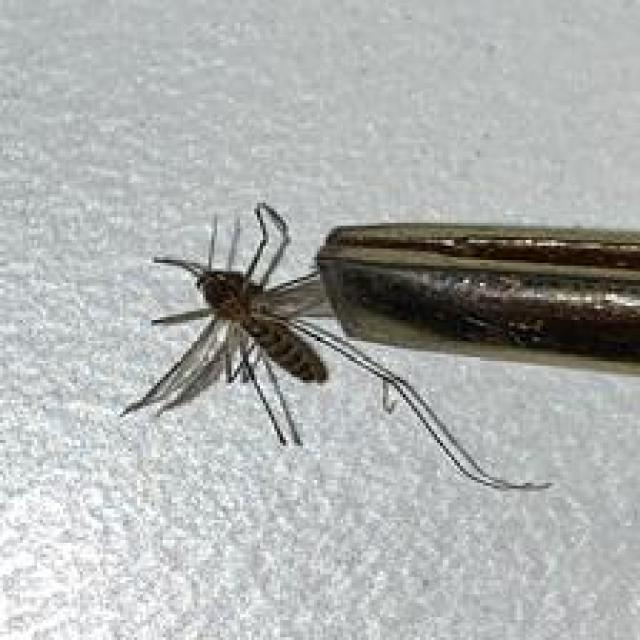Culex: (117, 198, 640, 493)
